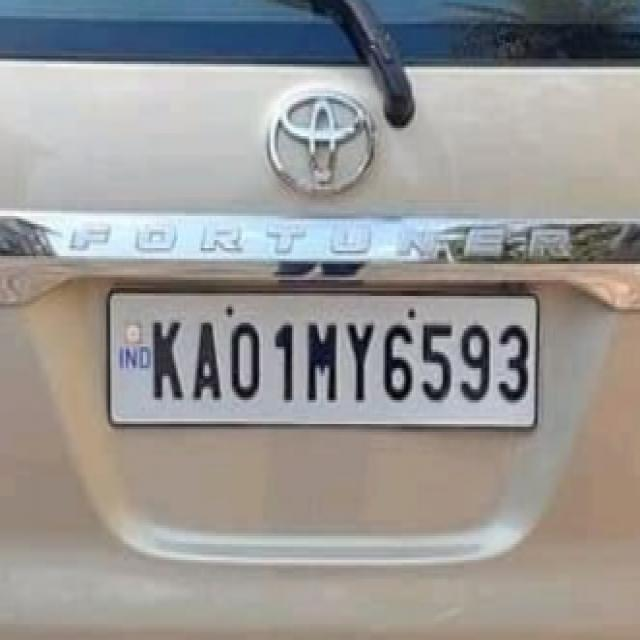0: (230, 313, 264, 402)
1: (270, 318, 298, 412)
3: (499, 314, 534, 410)
5: (420, 320, 454, 404)
6: (382, 323, 417, 403)
9: (457, 319, 495, 411)
A: (192, 312, 226, 406)
K: (148, 310, 184, 406)
M: (304, 314, 340, 404)
Y: (343, 314, 377, 412)
